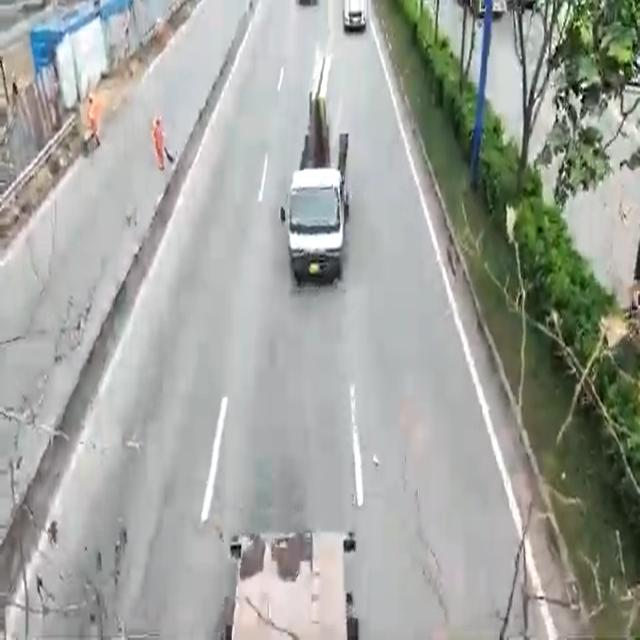truck: (283, 66, 352, 304)
